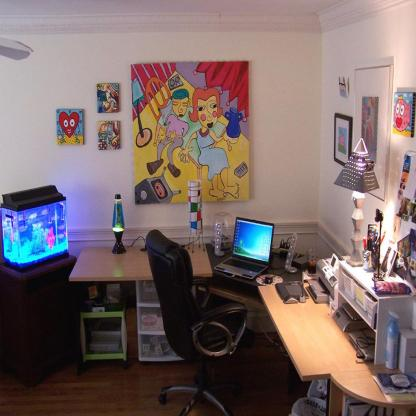board: (213, 216, 275, 290), (384, 307, 400, 372)
